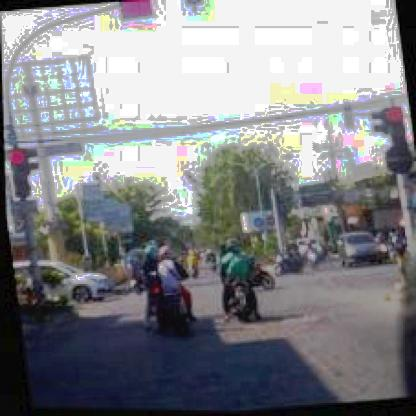Traffic Light -Red-: (7, 151, 33, 201), (384, 104, 408, 156)
